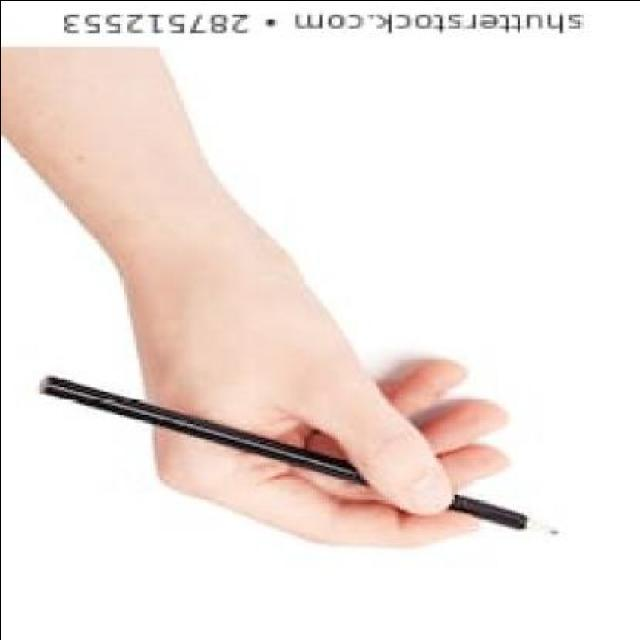Pencil: (498, 507, 568, 544)
